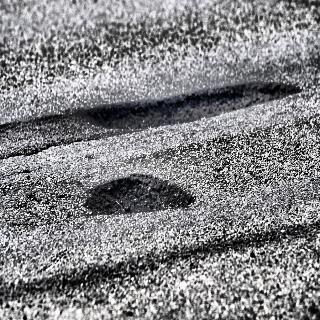pothole: (82, 79, 303, 136), (80, 173, 194, 219)
